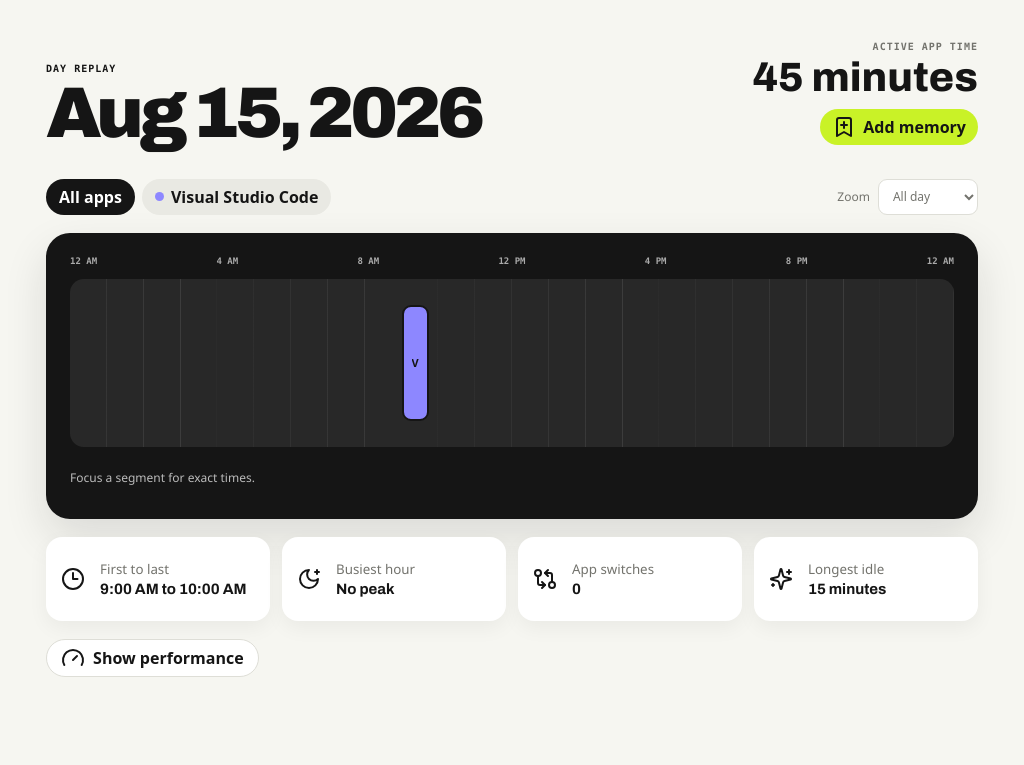
DayReplay › labels active and idle time clearly and reveals optional performance history
The width and height of the screenshot is (1024, 765).
Expected: the text "Active app time" is shown, x1=873 y1=42 x2=978 y2=53
Expected: the text "45 minutes" is shown, x1=752 y1=58 x2=978 y2=99
Click the button "Show performance". click: (152, 658)
box: x1=46 y1=639 x2=259 y2=677
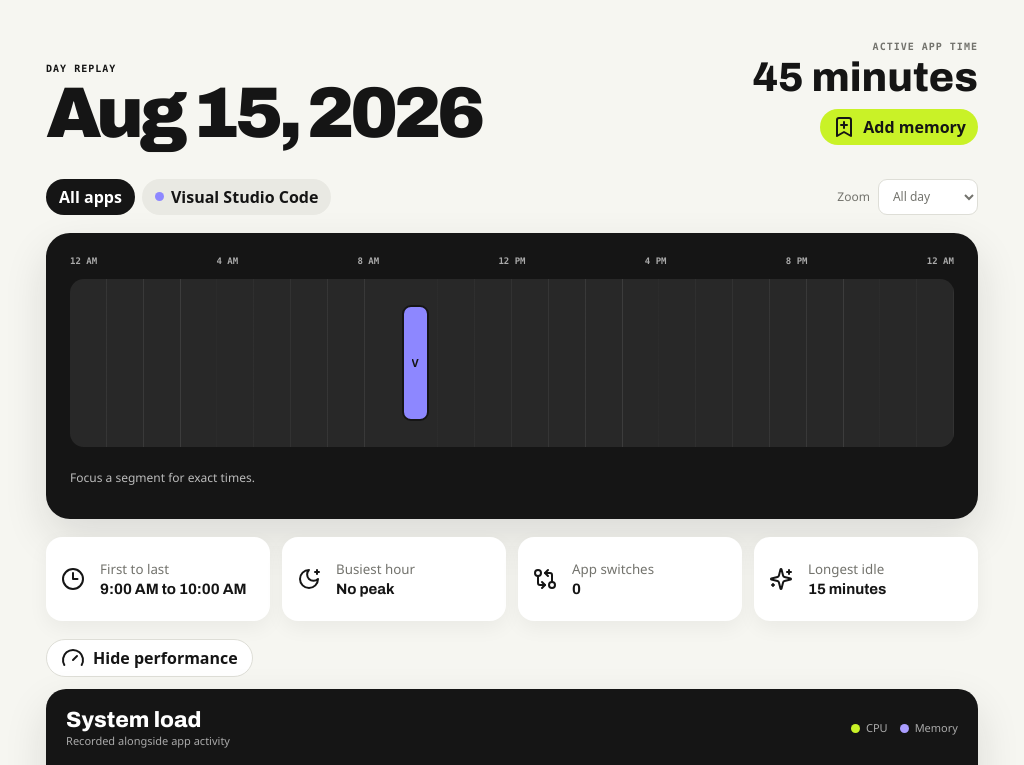
Expected: the button "Hide performance" is shown, x1=46 y1=639 x2=253 y2=677
